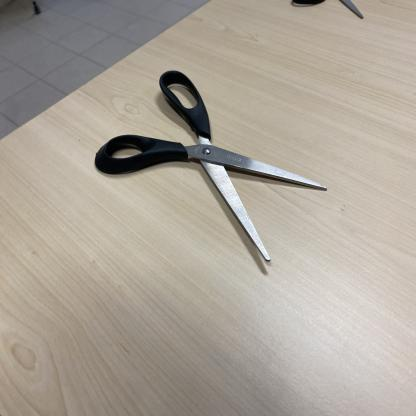scissors: (92, 68, 328, 267), (290, 0, 366, 24)
